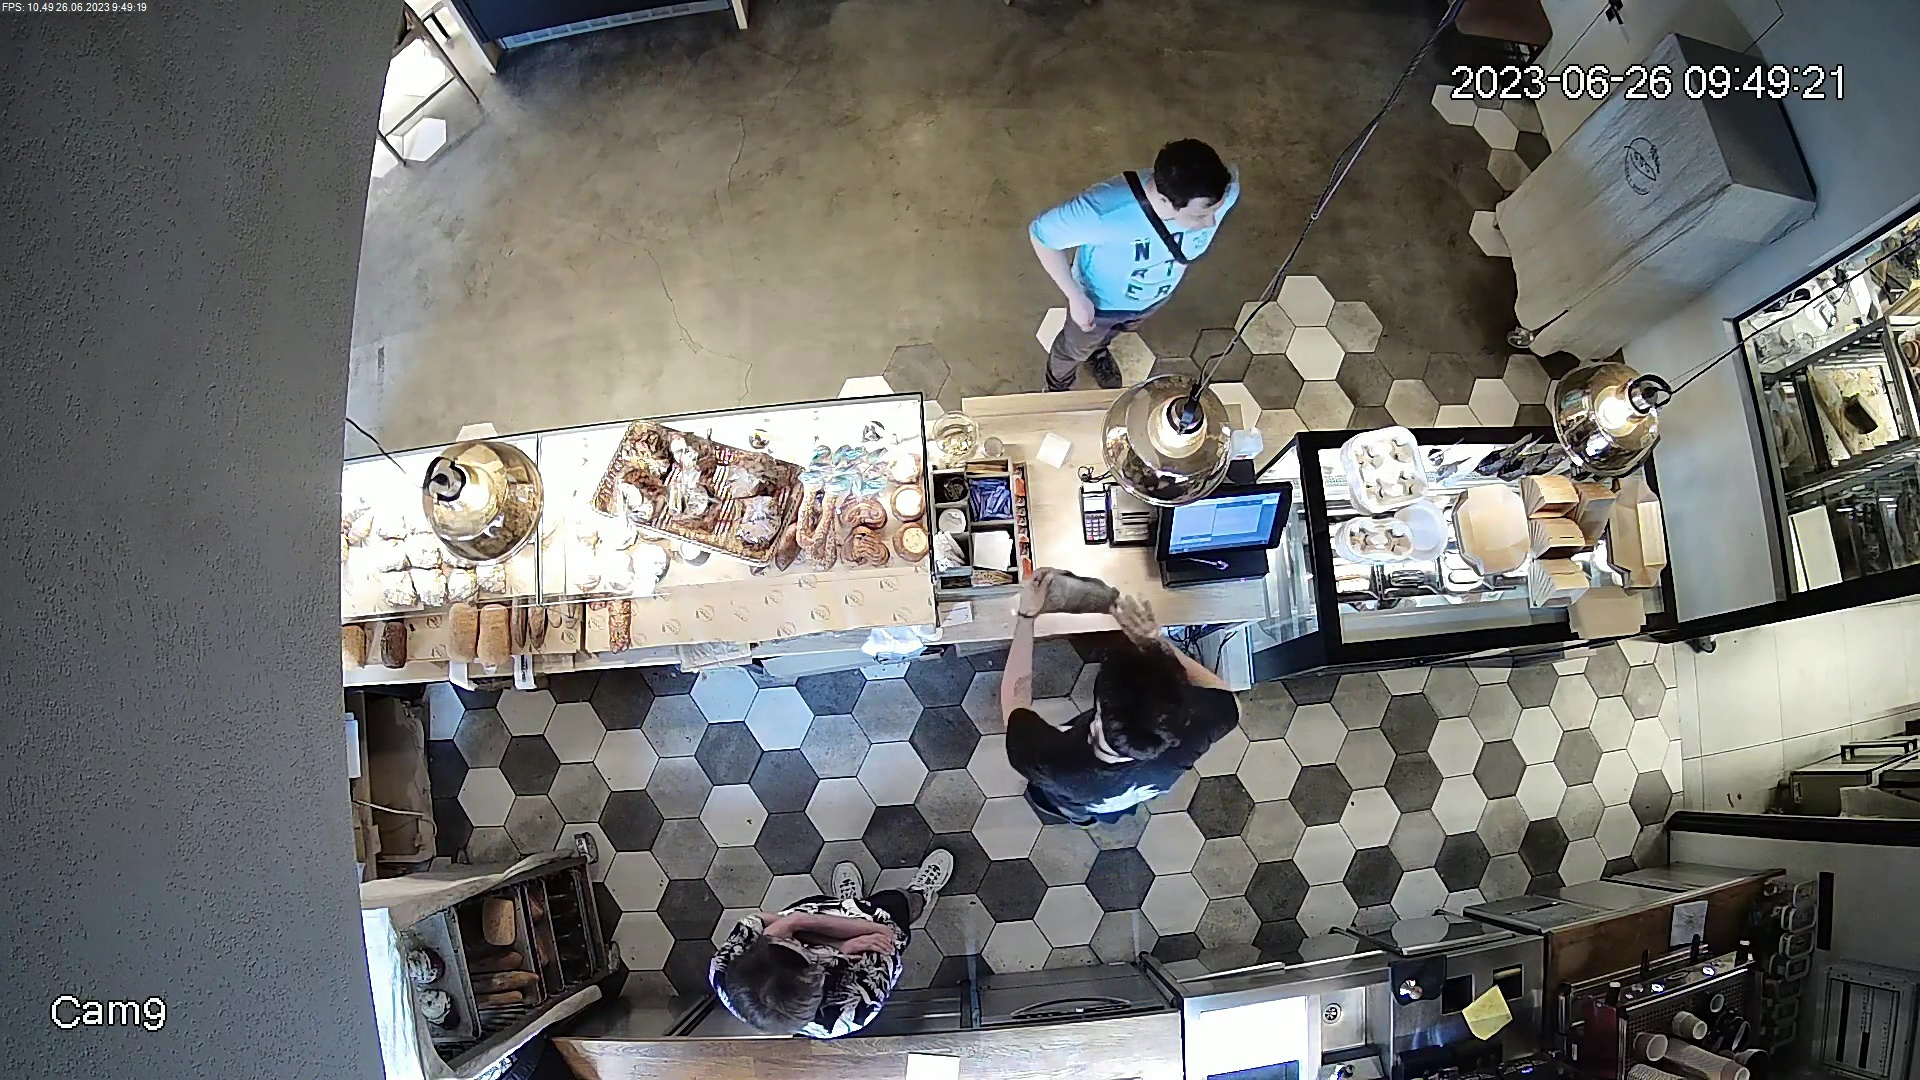pack: (1024, 565, 1121, 612)
person: (1026, 136, 1250, 387)
